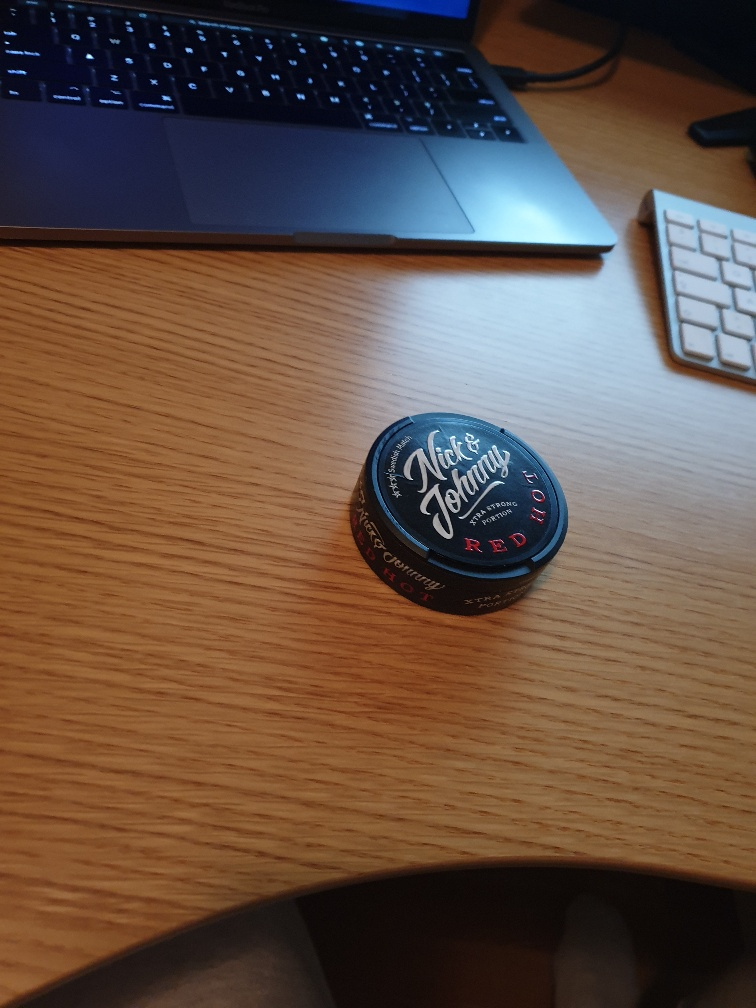redhost: (347, 401, 574, 628)
snus: (349, 404, 572, 625)
